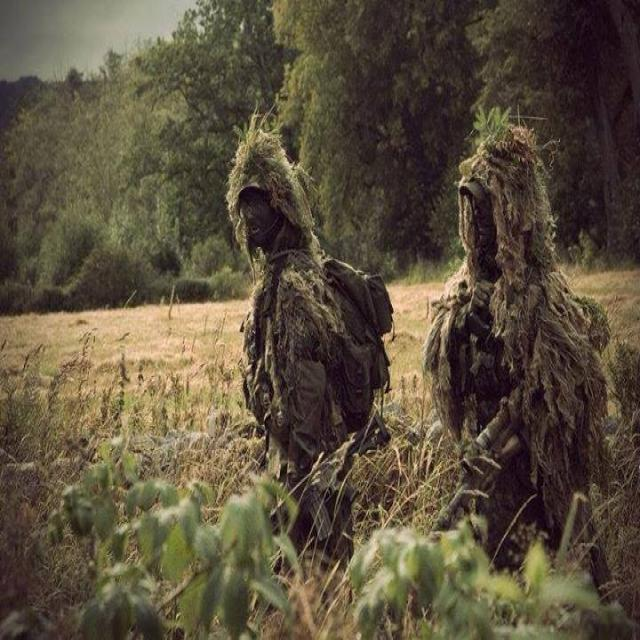Human: (424, 125, 612, 597), (228, 137, 395, 564)
